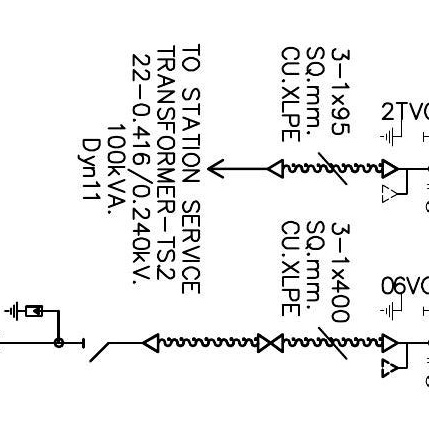22_gs: (379, 293, 425, 321), (379, 119, 425, 146)
terminator_single: (141, 332, 161, 354), (266, 158, 285, 181)
terminator_splicing_kits: (256, 332, 284, 354)
terminator_w_future: (381, 158, 410, 205), (380, 332, 409, 379)
